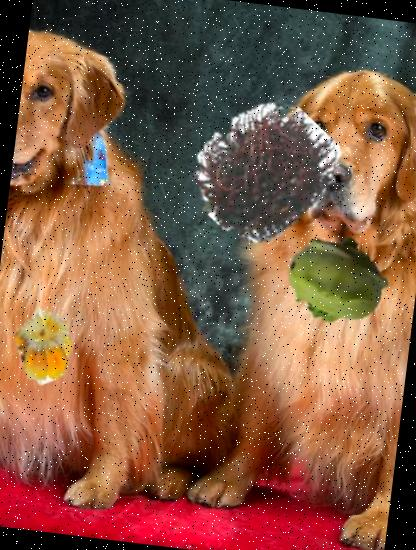Kohlrabi: (280, 223, 394, 336)
Physalis: (3, 301, 89, 388)
Rambutan: (184, 91, 340, 248)
